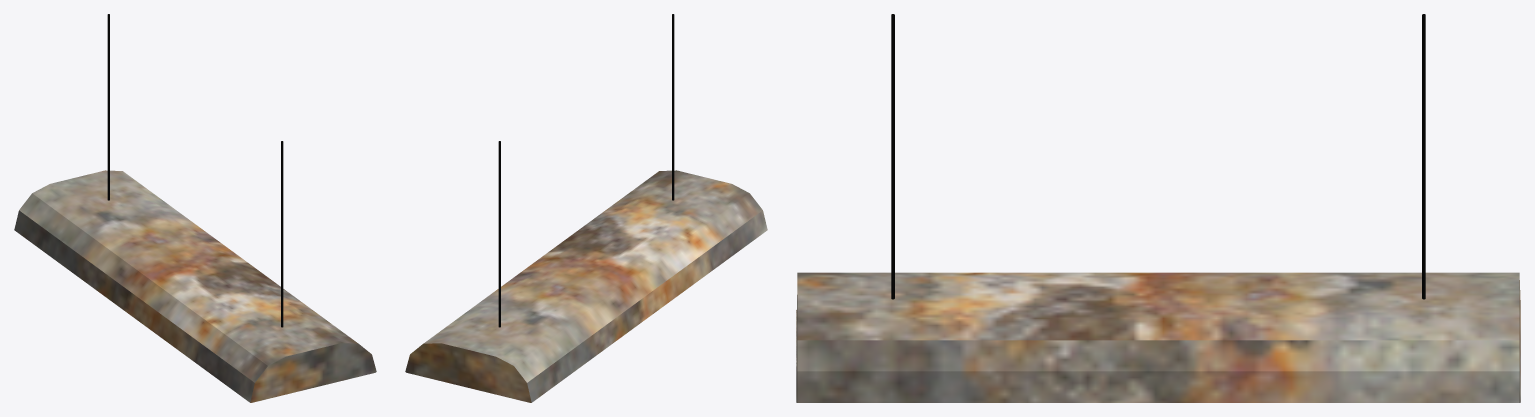
The model's file is light_01.fbx.
3 renders of one model, left to right at view 1: azimuth 30°, elevation 25°; view 2: azimuth 150°, elevation 25°; view 3: azimuth 270°, elevation 25°, orthographic. The views are drawn at different scales.
Visible parts, largest first — view 1: Cube.013; view 2: Cube.013; view 3: Cube.013.
Boxes of the visible parts, bbox=[...] form: Cube.013: bbox=[14, 14, 376, 402]; Cube.013: bbox=[405, 14, 767, 402]; Cube.013: bbox=[796, 14, 1520, 402].
Size of the model in its own units: 37.02 by 62.45 by 120.
